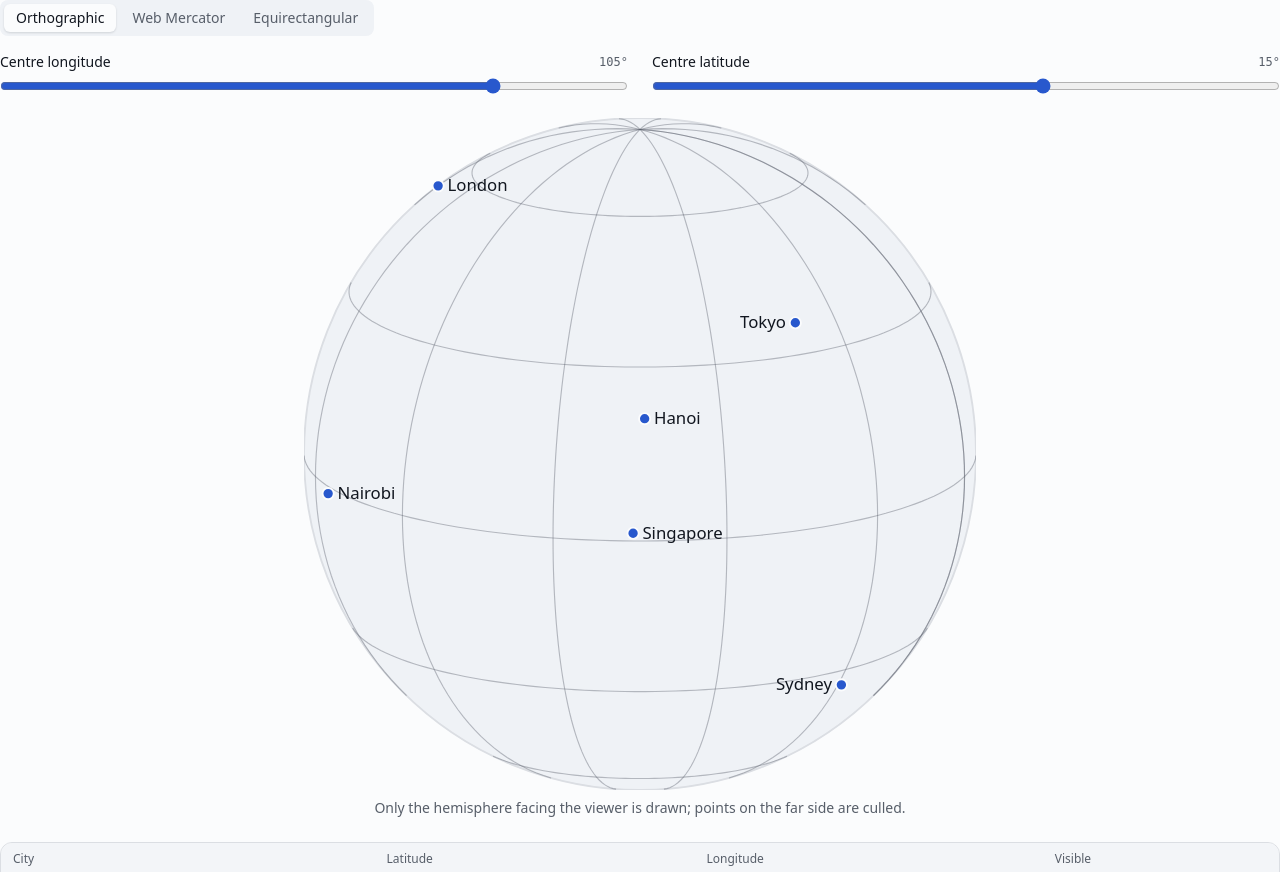
Test: MapProjectionsDemo › switches projections and shows their scale factors
This screenshot has width=1280, height=872.
Click the tab "Web Mercator".
click(179, 18)  # box [120, 4, 237, 32]
(page scrolled)
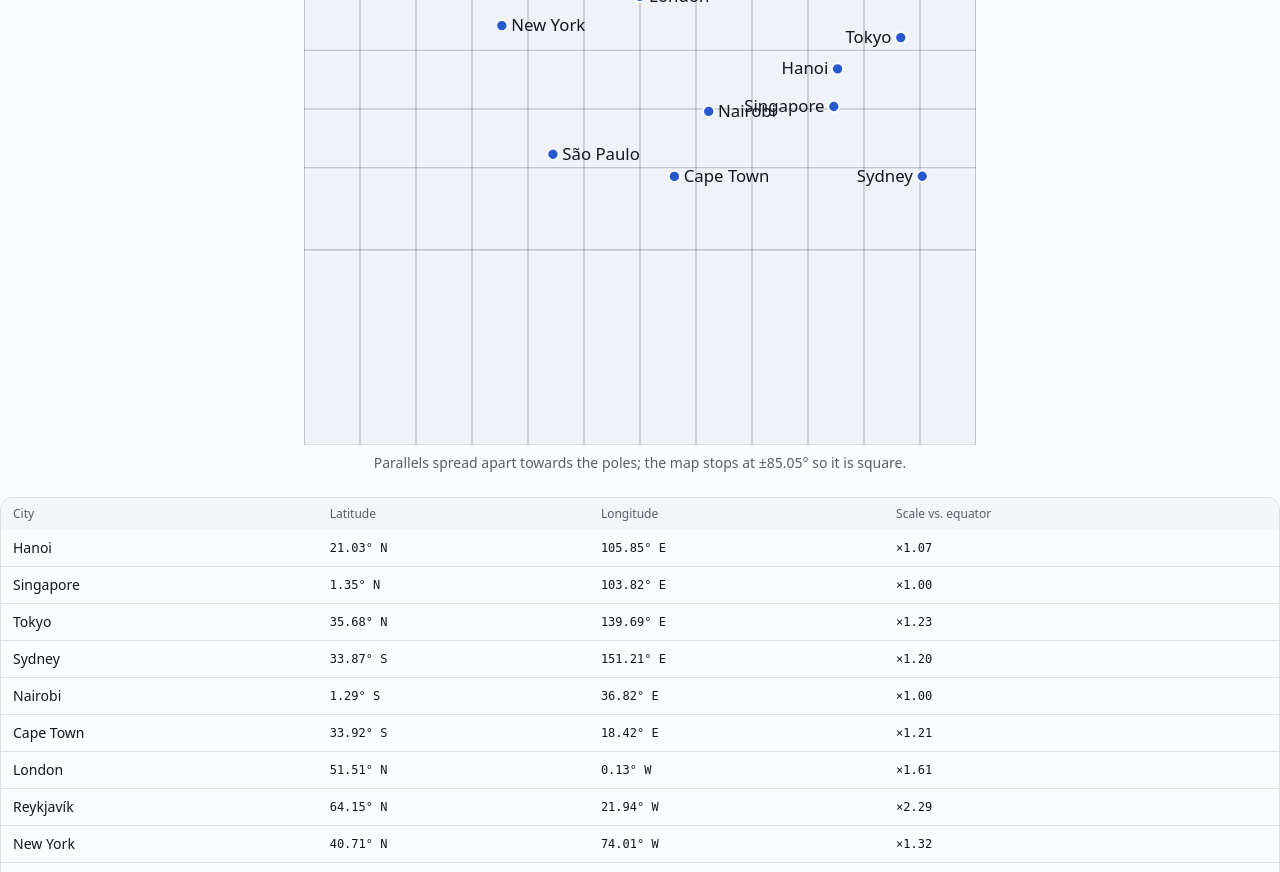
Now the row "Reykjavík 64.15° N 21.94° W ×2.29" is shown, box [1, 788, 1279, 826]
